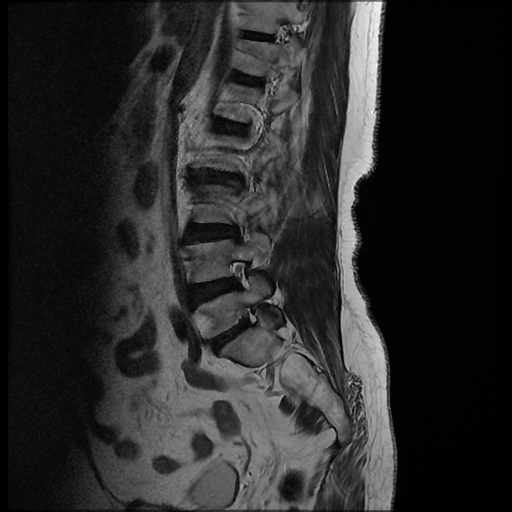RFS0: (222, 251, 259, 296)
RFS1: (231, 296, 265, 339)
